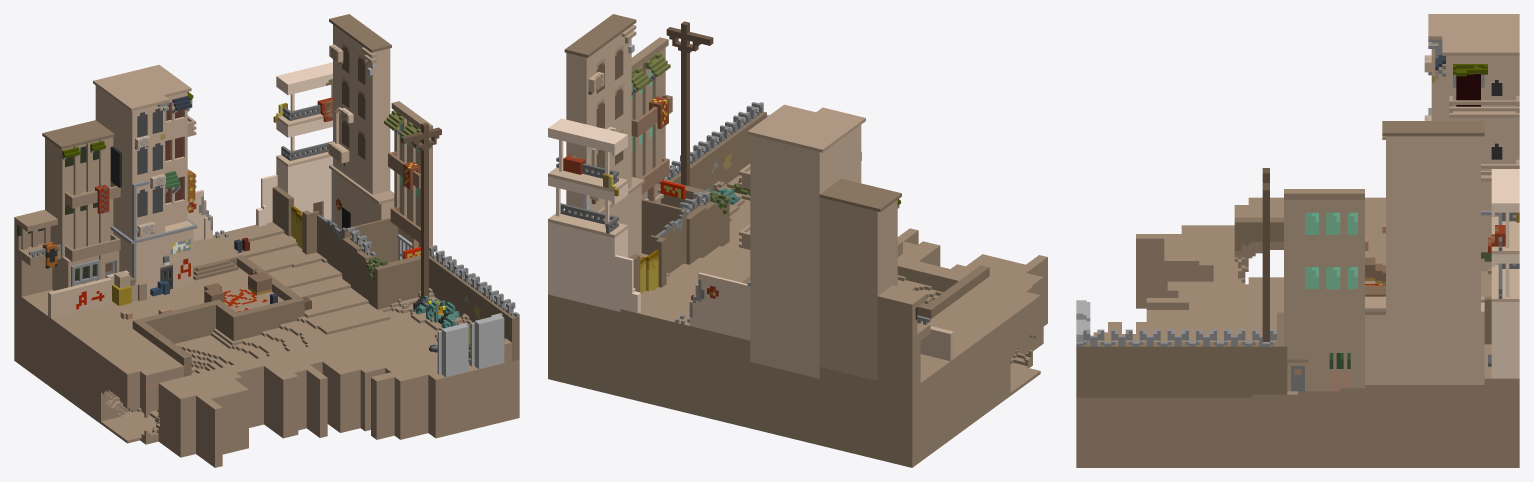
Rendered from dust2_a.obj.
The picture shows the model from 3 angles, left to right: view 1: azimuth 30°, elevation 25°; view 2: azimuth 150°, elevation 25°; view 3: azimuth 270°, elevation 25°; orthographic projection. The views are drawn at different scales.
Parts seen in each view (by area): view 1: dust2_a; view 2: dust2_a; view 3: dust2_a.
Boxes of the visible parts, box(x1,y1,x2,y2) form: dust2_a: box(14, 14, 519, 467); dust2_a: box(548, 14, 1047, 467); dust2_a: box(1076, 14, 1519, 467).
Bounding box in the file's own units: 126 × 105 × 126.
1 material, 1 textured.
